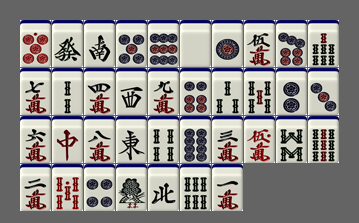0m: (244, 116, 275, 163)
0p: (20, 20, 51, 67)
0s: (52, 164, 83, 211)
1m: (212, 164, 243, 211)
1p: (212, 20, 243, 67)
1s: (116, 164, 147, 211)
1z: (116, 116, 147, 163)
2m: (20, 164, 51, 211)
2p: (276, 68, 307, 115)
2s: (52, 68, 83, 115)
2z: (84, 20, 115, 67)
3m: (212, 116, 243, 163)
3p: (308, 68, 339, 115)
3s: (212, 68, 243, 115)
3z: (116, 68, 147, 115)
4m: (84, 68, 115, 115)
4p: (84, 164, 115, 211)
4s: (148, 116, 179, 163)
4z: (148, 164, 179, 211)
5m: (244, 20, 275, 67)
5p: (116, 20, 147, 67)
5s: (244, 68, 275, 115)
5z: (180, 20, 211, 67)
6m: (20, 116, 51, 163)
6p: (180, 68, 211, 115)
6s: (180, 164, 211, 211)
6z: (52, 20, 83, 67)
7m: (20, 68, 51, 115)
7p: (276, 20, 307, 67)
7s: (308, 20, 339, 67)
7z: (52, 116, 83, 163)
8m: (84, 116, 115, 163)
8p: (180, 116, 211, 163)
8s: (276, 116, 307, 163)
9m: (148, 68, 179, 115)
9p: (148, 20, 179, 67)
9s: (308, 116, 339, 163)
